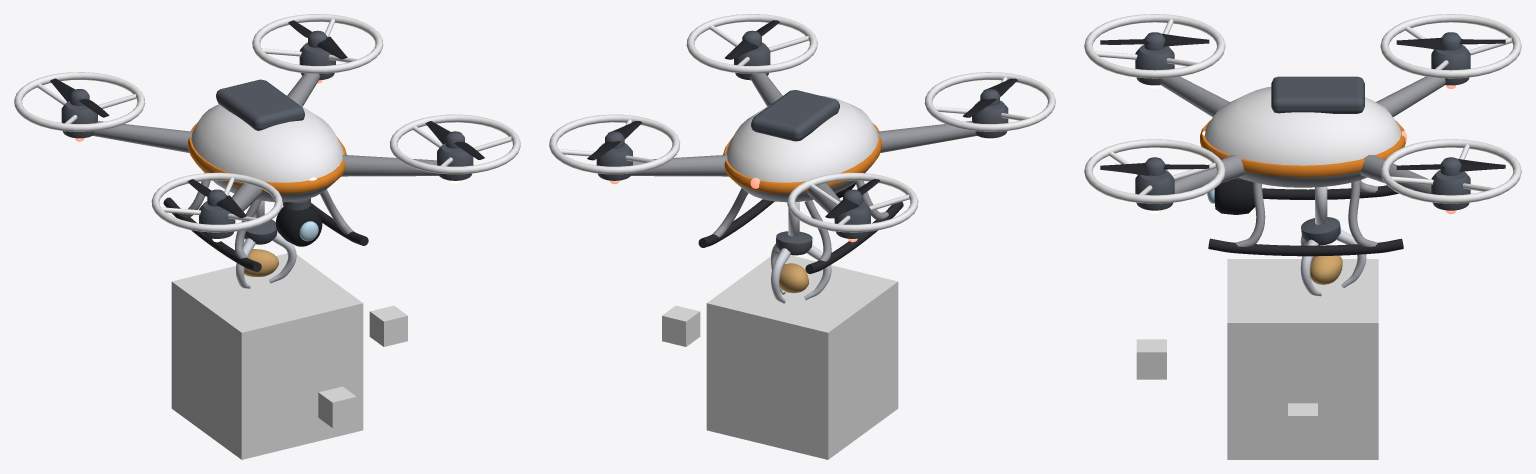
The model's file is Drone.fbx.
3 renders of one model, left to right at view 1: azimuth 30°, elevation 25°; view 2: azimuth 150°, elevation 25°; view 3: azimuth 270°, elevation 25°, orthographic. The views are drawn at different scales.
Visible parts, largest first — view 1: Origin__Pivot, DroneBody__White, DroneBody__MetalDark, DroneBody__Grey, DroneBody__Orange, DroneBody__Rubber, Origin__AxisX, Origin__AxisZ, DroneBody__Black, DroneBody/Claw__Chrome, DroneBody/Claw__Potato, DroneBody/Claw__MetalDark (+2 smaller); view 2: Origin__Pivot, DroneBody__White, DroneBody__Grey, DroneBody__MetalDark, DroneBody__Rubber, DroneBody__Orange, Origin__AxisX, DroneBody/Claw__Chrome, DroneBody/Claw__Potato, DroneBody/Claw__MetalDark; view 3: Origin__Pivot, DroneBody__White, DroneBody__MetalDark, DroneBody__Grey, DroneBody__Rubber, DroneBody__Orange, DroneBody__Black, Origin__AxisZ, Origin__AxisX, DroneBody/Claw__Chrome, DroneBody/Claw__MetalDark, DroneBody/Claw__Potato (+5 smaller).
Part boxes in pixels (x1,y1,x2,y2): Origin__Pivot: (171,253,363,459); DroneBody__White: (14,14,520,232); DroneBody__MetalDark: (61,42,473,238); DroneBody__Grey: (93,73,438,258); DroneBody__Orange: (188,123,346,193); DroneBody__Rubber: (163,197,368,271); Origin__AxisX: (369,305,407,346); Origin__AxisZ: (318,386,356,427); DroneBody__Black: (275,206,322,246); DroneBody/Claw__Chrome: (236,231,296,288); DroneBody/Claw__Potato: (244,249,278,276); DroneBody/Claw__MetalDark: (244,219,277,244); Origin__Pivot: (706,255,898,459); DroneBody__White: (549,14,1055,232); DroneBody__Grey: (631,73,976,261); DroneBody__MetalDark: (596,42,1008,238); DroneBody__Rubber: (698,199,903,273); DroneBody__Orange: (723,123,881,193); Origin__AxisX: (662,305,700,346); DroneBody/Claw__Chrome: (771,244,831,303); DroneBody/Claw__Potato: (779,263,808,293); DroneBody/Claw__MetalDark: (775,231,812,255); Origin__Pivot: (1227,259,1378,459); DroneBody__White: (1084,14,1521,203); DroneBody__MetalDark: (1135,45,1470,210); DroneBody__Grey: (1160,76,1445,246); DroneBody__Rubber: (1208,185,1403,256); DroneBody__Orange: (1200,120,1405,177); DroneBody__Black: (1214,179,1255,214); Origin__AxisZ: (1136,339,1166,379); Origin__AxisX: (1288,403,1317,443); DroneBody/Claw__Chrome: (1300,229,1366,296); DroneBody/Claw__MetalDark: (1301,217,1340,245); DroneBody/Claw__Potato: (1310,255,1342,284).
Size of the model in its own units: 2.9 by 2.49 by 2.9.
